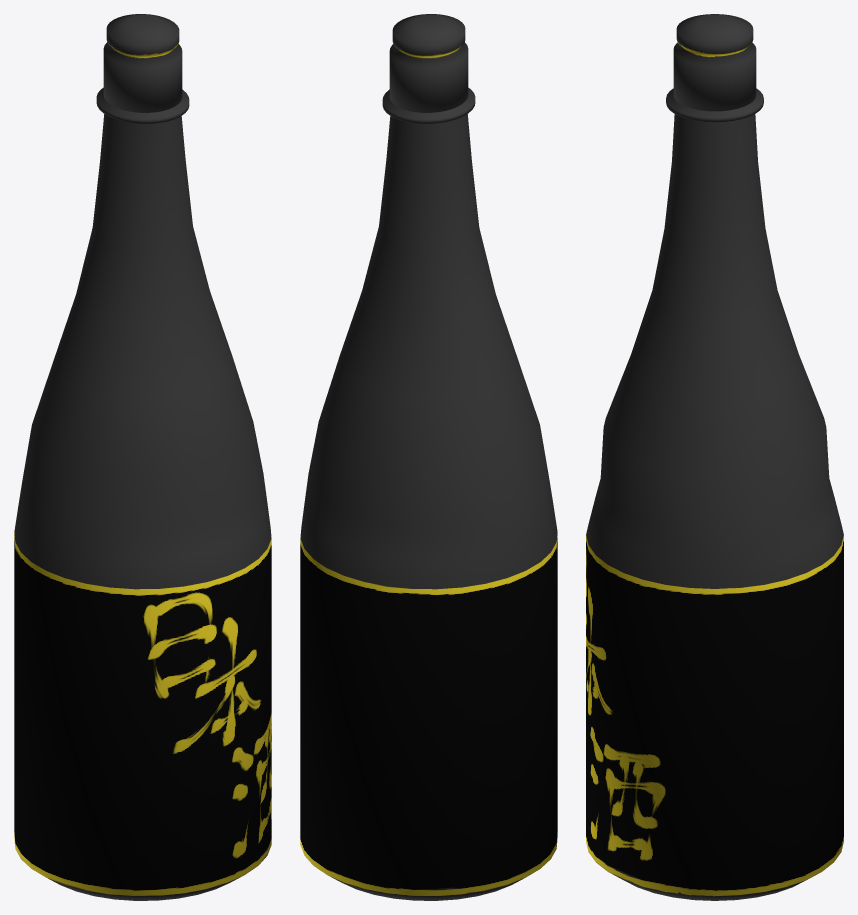
Rendered from JapaneseSake.obj.
The picture shows the model from 3 angles, left to right: view 1: azimuth 30°, elevation 25°; view 2: azimuth 150°, elevation 25°; view 3: azimuth 270°, elevation 25°; orthographic projection.
Parts seen in each view (by area): view 1: JapaneseSake; view 2: JapaneseSake; view 3: JapaneseSake.
Part boxes in pixels (x1=…): JapaneseSake: x1=14, y1=14, x2=271, y2=900; JapaneseSake: x1=300, y1=14, x2=557, y2=900; JapaneseSake: x1=586, y1=14, x2=843, y2=900.
Bounding box in the file's own units: 0.2905 × 1.04 × 0.2905.
Materials: 1 (1 with a texture image).
